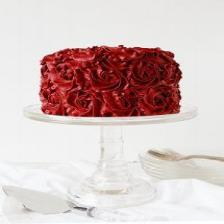red: (41, 46, 182, 117)
